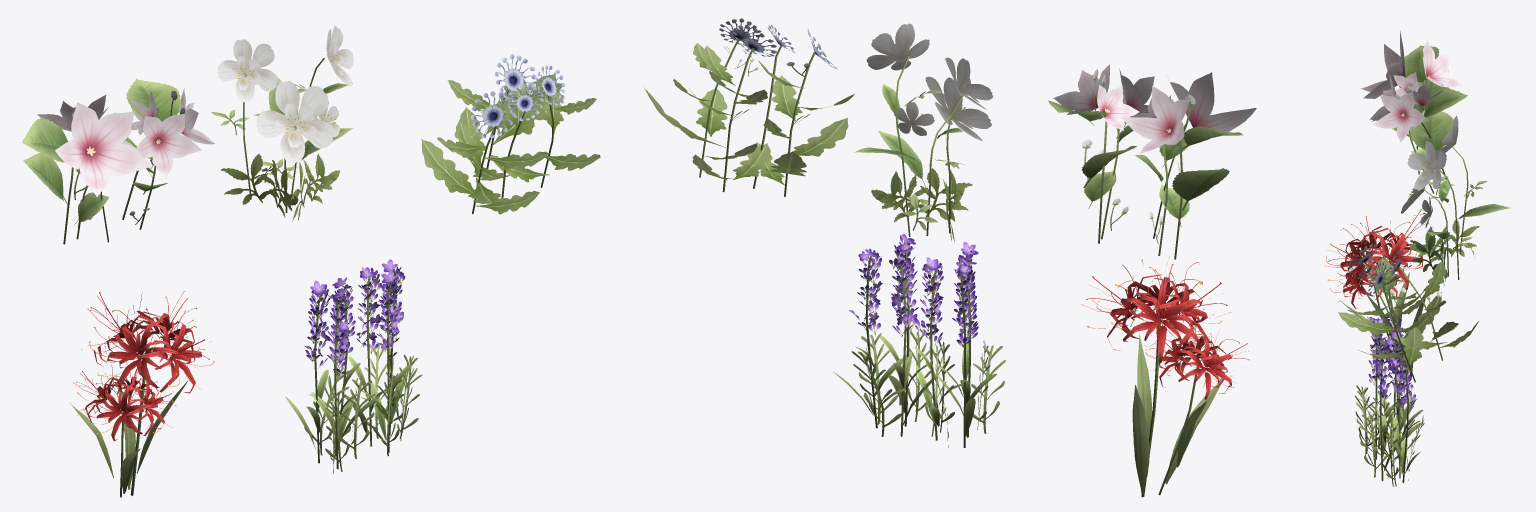
File: handpainted_flower_set1.glb
3 views of the same model, side by side, from view 1: azimuth 30°, elevation 25°; view 2: azimuth 150°, elevation 25°; view 3: azimuth 270°, elevation 25° (orthographic). The views are drawn at different scales.
Visible parts, largest first — view 1: polySurface120, pPlane250, polySurface167, polySurface52, pPlane188; view 2: polySurface120, pPlane250, pPlane188, polySurface167, polySurface52; view 3: polySurface120, pPlane250, polySurface52, polySurface167, pPlane188.
Boxes of the visible parts, x1=… form: polySurface120: x1=21, y1=78, x2=214, y2=244; pPlane250: x1=285, y1=259, x2=422, y2=473; polySurface167: x1=211, y1=26, x2=353, y2=221; polySurface52: x1=421, y1=54, x2=600, y2=214; pPlane188: x1=69, y1=291, x2=214, y2=497; polySurface120: x1=1048, y1=64, x2=1256, y2=259; pPlane250: x1=833, y1=233, x2=1005, y2=447; pPlane188: x1=1081, y1=256, x2=1249, y2=497; polySurface167: x1=854, y1=23, x2=992, y2=243; polySurface52: x1=644, y1=18, x2=854, y2=196; polySurface120: x1=1360, y1=31, x2=1467, y2=193; pPlane250: x1=1355, y1=311, x2=1424, y2=486; polySurface52: x1=1338, y1=244, x2=1478, y2=382; polySurface167: x1=1401, y1=115, x2=1510, y2=286; pPlane188: x1=1324, y1=210, x2=1433, y2=383.
Bounding box in the file's own units: 0.0708 × 0.0509 × 0.029.
2 materials, 2 textured.
